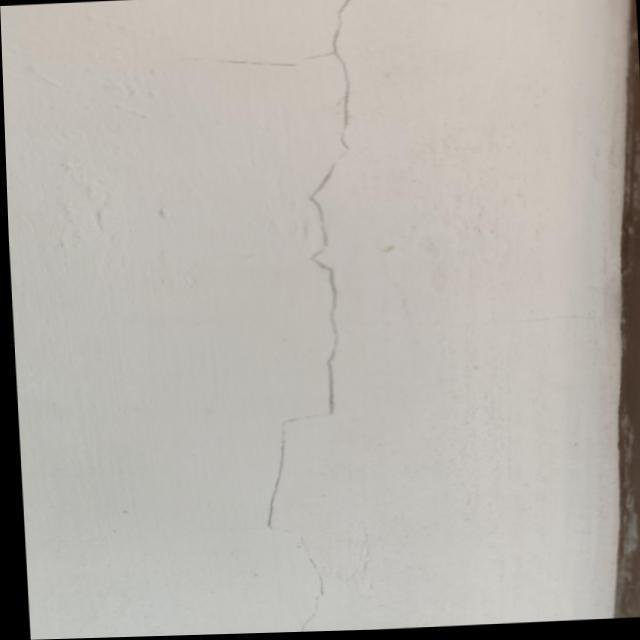Crack: (262, 1, 354, 563)
